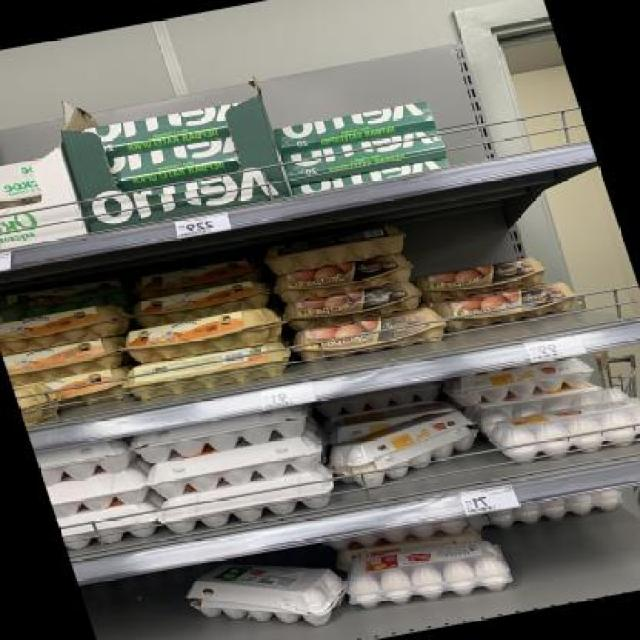Egg: (334, 530, 520, 619), (110, 298, 292, 371), (484, 389, 640, 468), (318, 407, 484, 481), (287, 302, 451, 367), (266, 245, 422, 306), (433, 274, 581, 337), (441, 354, 599, 412), (128, 272, 277, 332), (280, 277, 428, 334), (0, 295, 138, 356), (414, 249, 554, 306), (2, 331, 132, 387), (0, 167, 68, 219), (0, 145, 69, 187), (12, 377, 65, 428)
